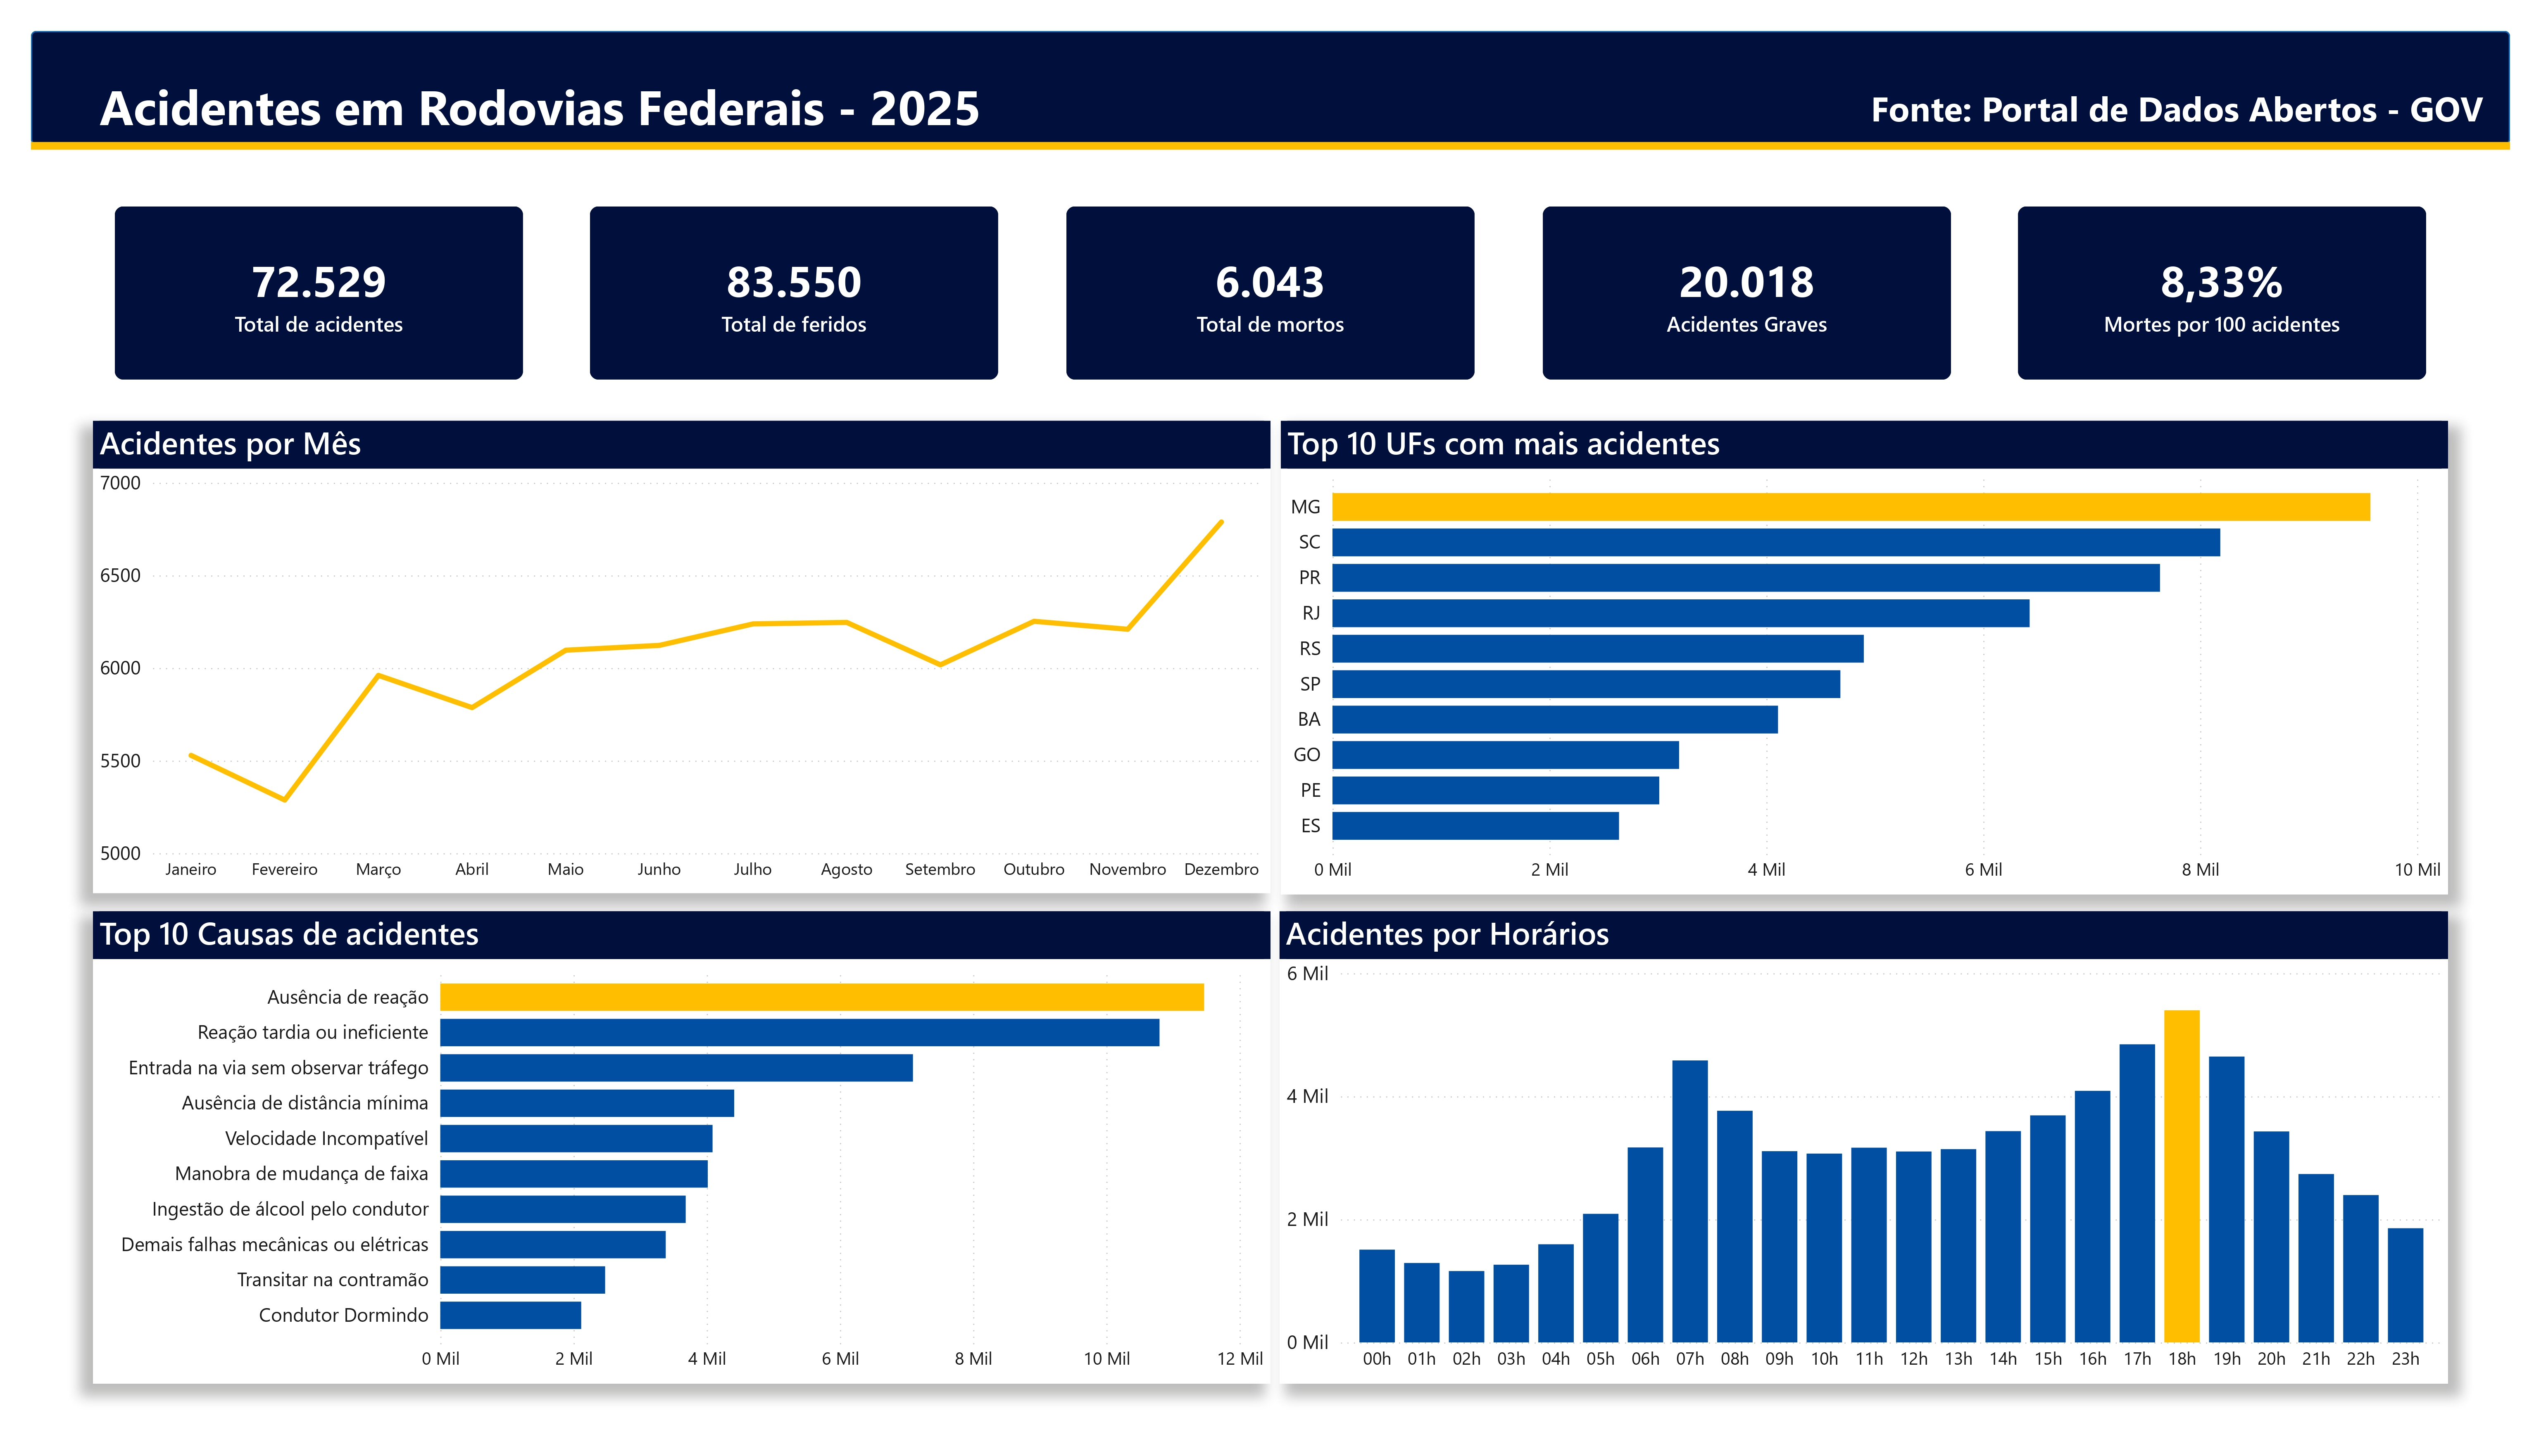

The page's visual inventory and layout, read from the dashboard file:
{"tool":"powerbi","page":{"name":"Acidentes","canvas":[1920,1080],"ordinal":0},"visuals":[{"type":"shape","box":[0,0,1920,88.3],"z":0},{"type":"cardVisual","fields":{"Data":["AcidentesAgrupadosOcorrencia2025.Total Acidentes"]},"box":[47.8,118.9,350,168.9],"z":1000},{"type":"lineChart","title":"Acidentes por Mês","fields":{"Y":["AcidentesAgrupadosOcorrencia2025.Total de acidentes"],"Category":["AcidentesAgrupadosOcorrencia2025.Nome do Mês"]},"box":[47.9,302.2,912,366],"z":2000},{"type":"cardVisual","title":"Total de mortos","fields":{"Data":["AcidentesAgrupadosOcorrencia2025.Total de mortos"]},"box":[785,119.2,350,168.3],"z":3000},{"type":"clusteredBarChart","title":"Top 10 UFs com mais acidentes","fields":{"Category":["AcidentesAgrupadosOcorrencia2025.uf"],"Y":["AcidentesAgrupadosOcorrencia2025.Total de acidentes"]},"box":[968.2,301.8,903.3,366.7],"z":4000},{"type":"cardVisual","fields":{"Data":["Sum(AcidentesAgrupadosOcorrencia2025.feridos)"]},"box":[416.4,119.2,350,168.3],"z":5000},{"type":"clusteredBarChart","title":"Top 10 Causas de acidentes","fields":{"Y":["AcidentesAgrupadosOcorrencia2025.Total de acidentes"],"Category":["AcidentesAgrupadosOcorrencia2025.causa_acidente"]},"box":[47.9,682,912,366],"z":6000},{"type":"cardVisual","fields":{"Data":["Sum(AcidentesAgrupadosOcorrencia2025.feridos_graves)"]},"box":[1153.6,119.2,350,168.3],"z":7000},{"type":"textbox","box":[48.3,28.3,823.3,60],"z":8000},{"type":"cardVisual","title":"Morte por 100 acidentes","fields":{"Data":["AcidentesAgrupadosOcorrencia2025.Taxa de mortalidade"]},"box":[1522.2,118.9,350,168.9],"z":9000},{"type":"clusteredColumnChart","title":"Acidentes por Horários","fields":{"Y":["CountNonNull(AcidentesAgrupadosOcorrencia2025.id)"],"Category":["AcidentesAgrupadosOcorrencia2025.Hora Exibição"]},"box":[967.4,681.9,905,366.2],"z":10000},{"type":"shape","box":[0,82.5,1920,12.5],"z":11000},{"type":"textbox","box":[1420,36,500,46],"z":11501}]}

Visuals, with their boxes on the page's 1920x1080 design canvas (x1, y1, x2, y2). These are canvas units, not pixel positions in the 2541x1456 screenshot, which may show the page scaled, cropped or inside an application window:
shape: <box>0,0,1920,88</box>
cardVisual - AcidentesAgrupadosOcorrencia2025.Total Acidentes: <box>48,119,398,288</box>
"Acidentes por Mês" lineChart: <box>48,302,960,668</box>
"Total de mortos" cardVisual: <box>785,119,1135,288</box>
"Top 10 UFs com mais acidentes" clusteredBarChart: <box>968,302,1872,668</box>
cardVisual - Sum(AcidentesAgrupadosOcorrencia2025.feridos): <box>416,119,766,288</box>
"Top 10 Causas de acidentes" clusteredBarChart: <box>48,682,960,1048</box>
cardVisual - Sum(AcidentesAgrupadosOcorrencia2025.feridos_graves): <box>1154,119,1504,288</box>
textbox: <box>48,28,872,88</box>
"Morte por 100 acidentes" cardVisual: <box>1522,119,1872,288</box>
"Acidentes por Horários" clusteredColumnChart: <box>967,682,1872,1048</box>
shape: <box>0,82,1920,95</box>
textbox: <box>1420,36,1920,82</box>
